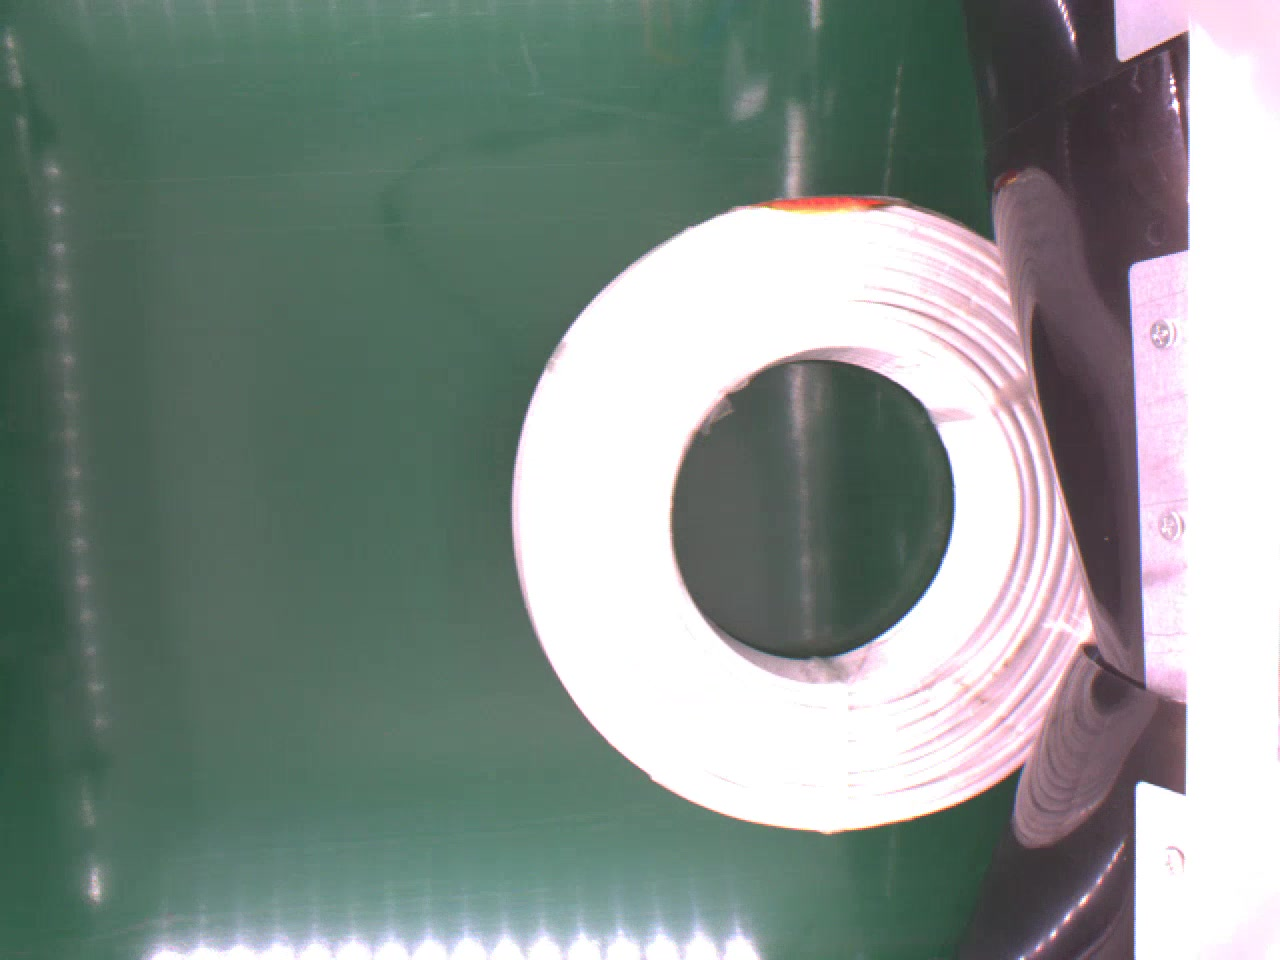white: (506, 191, 1095, 841)
